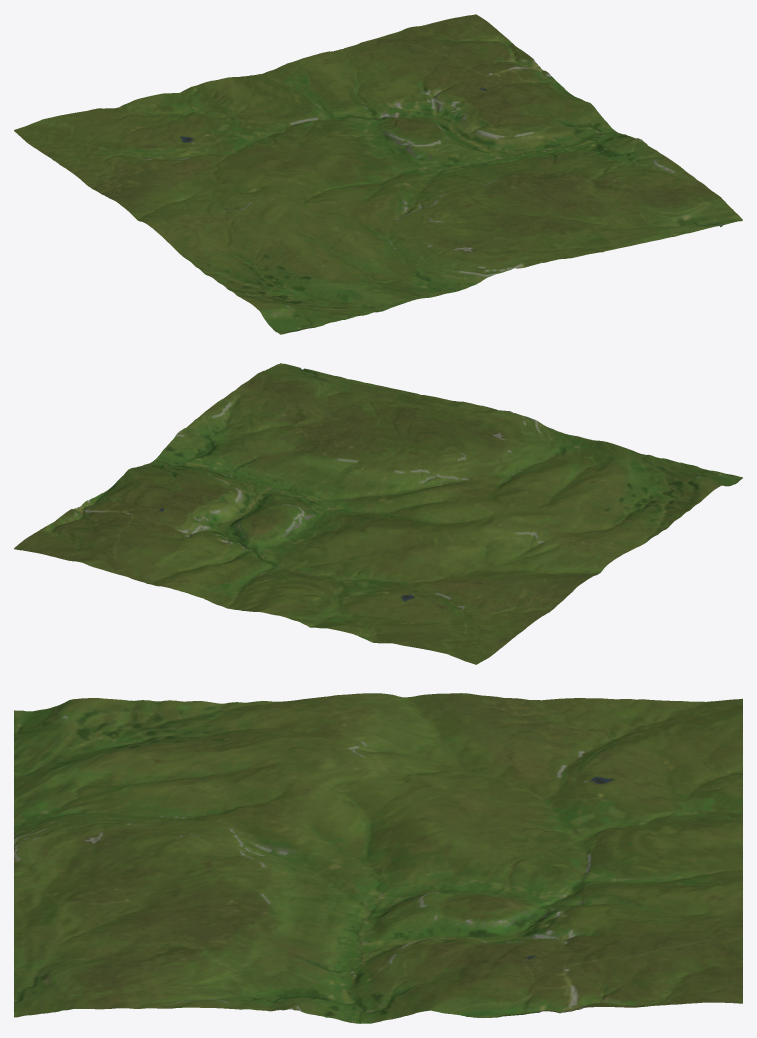
Rendered from backdrop.glb.
3 views of the same model, one above another, from view 1: azimuth 30°, elevation 25°; view 2: azimuth 150°, elevation 25°; view 3: azimuth 270°, elevation 25° (orthographic). The views are drawn at different scales.
Parts seen in each view (by area): view 1: backdrop; view 2: backdrop; view 3: backdrop.
Boxes of the visible parts, <box> form: backdrop: <box>14,14,742,334</box>; backdrop: <box>14,363,742,664</box>; backdrop: <box>14,693,742,1023</box>.
Size of the model in its own units: 12000 by 512 by 12000.
